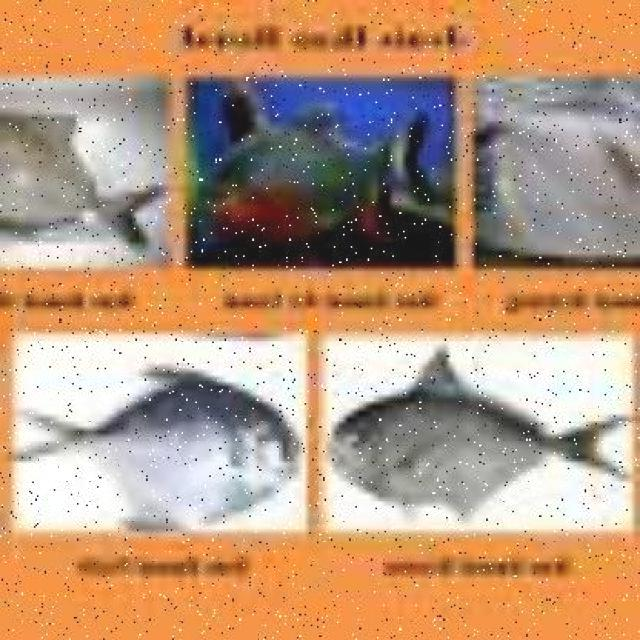ikan-pacu: (192, 108, 436, 252)
